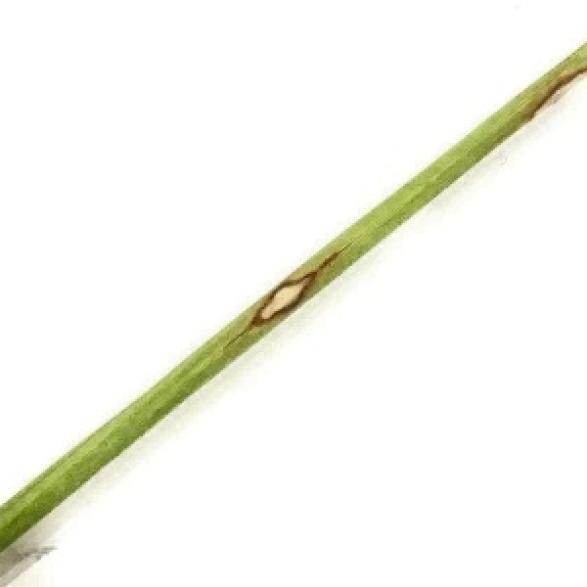Leaf_smut: (211, 233, 358, 360), (509, 24, 585, 133)
